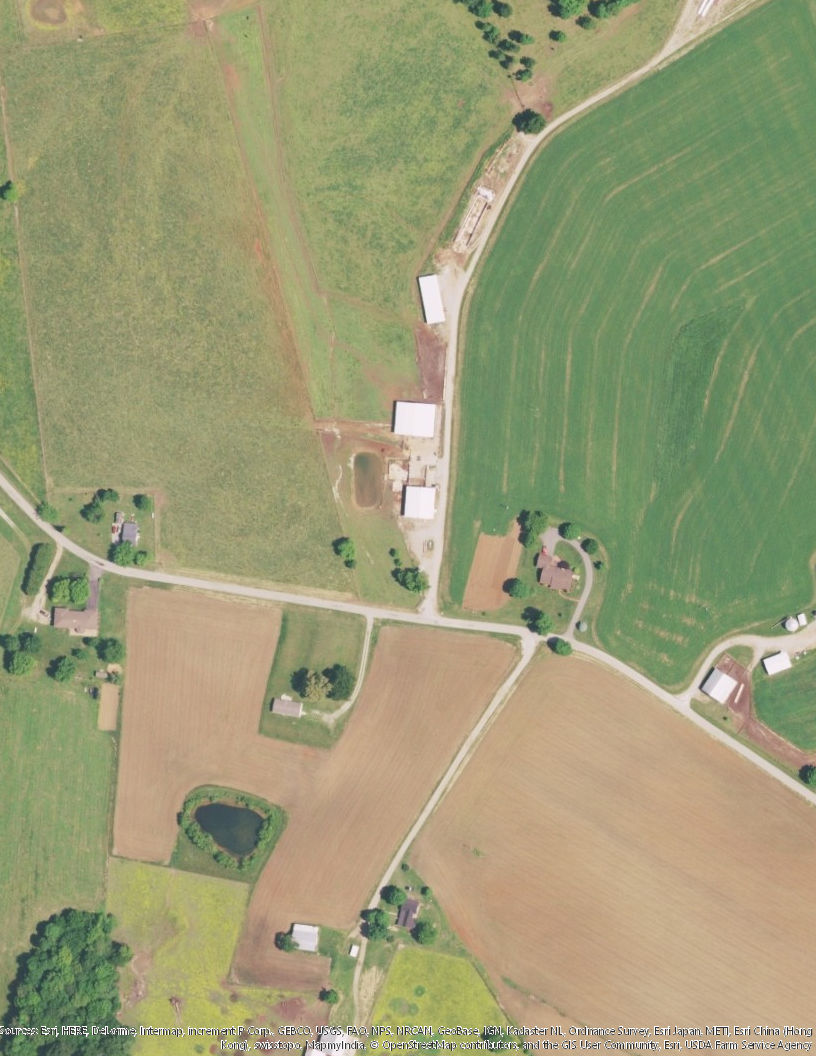cafo: (389, 397, 442, 439), (417, 270, 448, 325), (399, 483, 441, 521)
